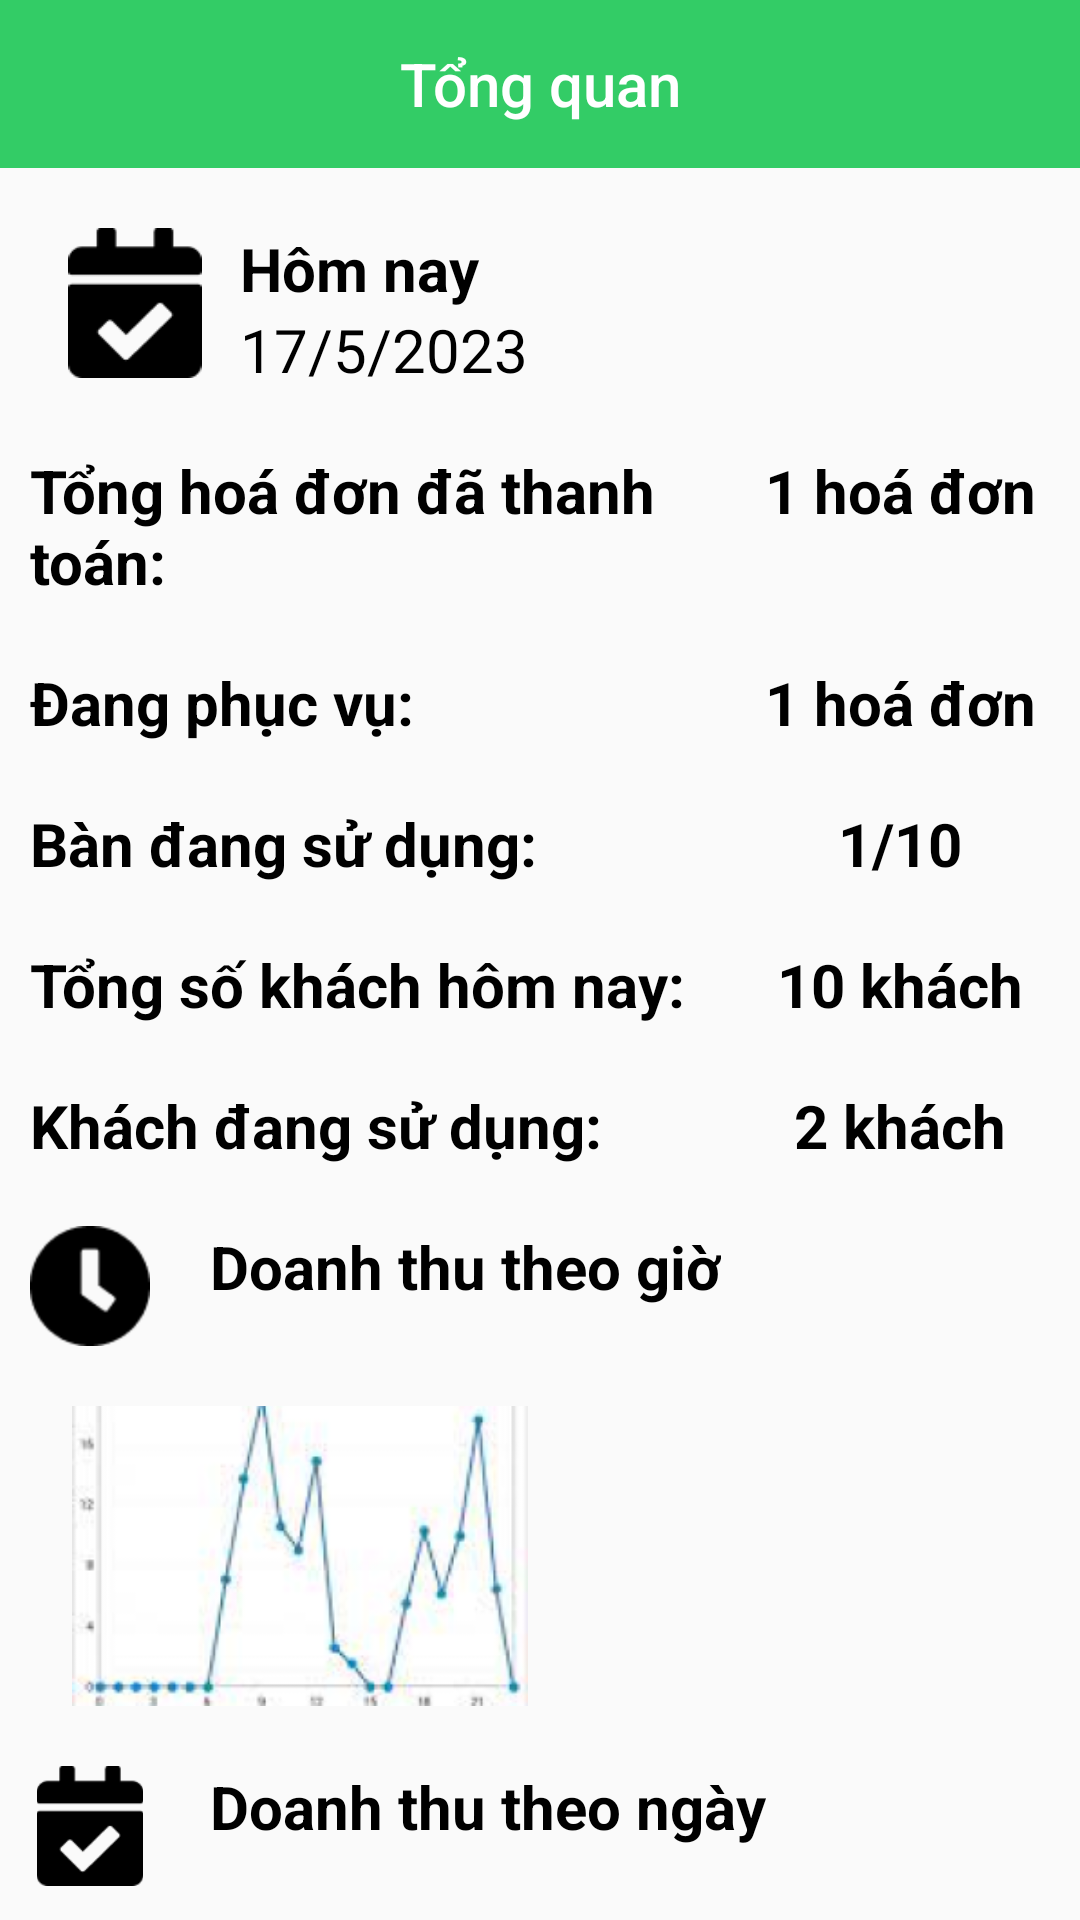

Where icons sit on this 1080w x 1920h app screen, as (x1, y1, x2, y2):
dongho: (30, 1226, 150, 1346)
